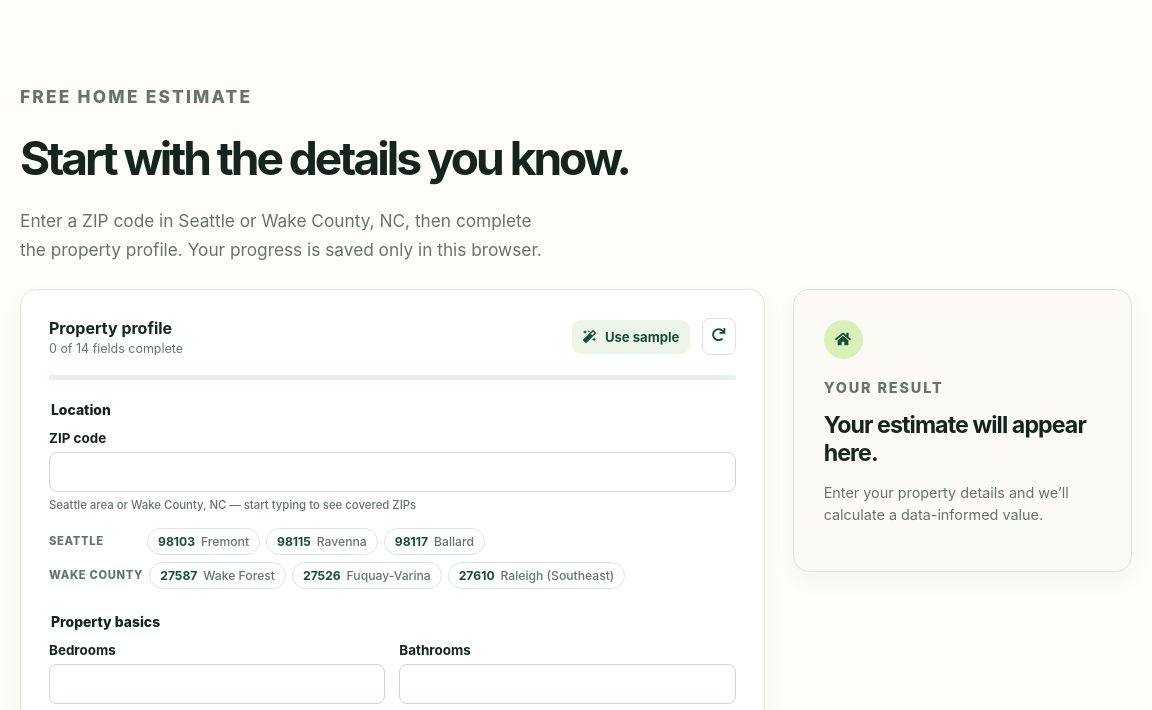
Scenario: flags covered-market ZIPs with little or no training data
In the field labelled "ZIP code": [392, 472] box [49, 452, 736, 492], type "98113"
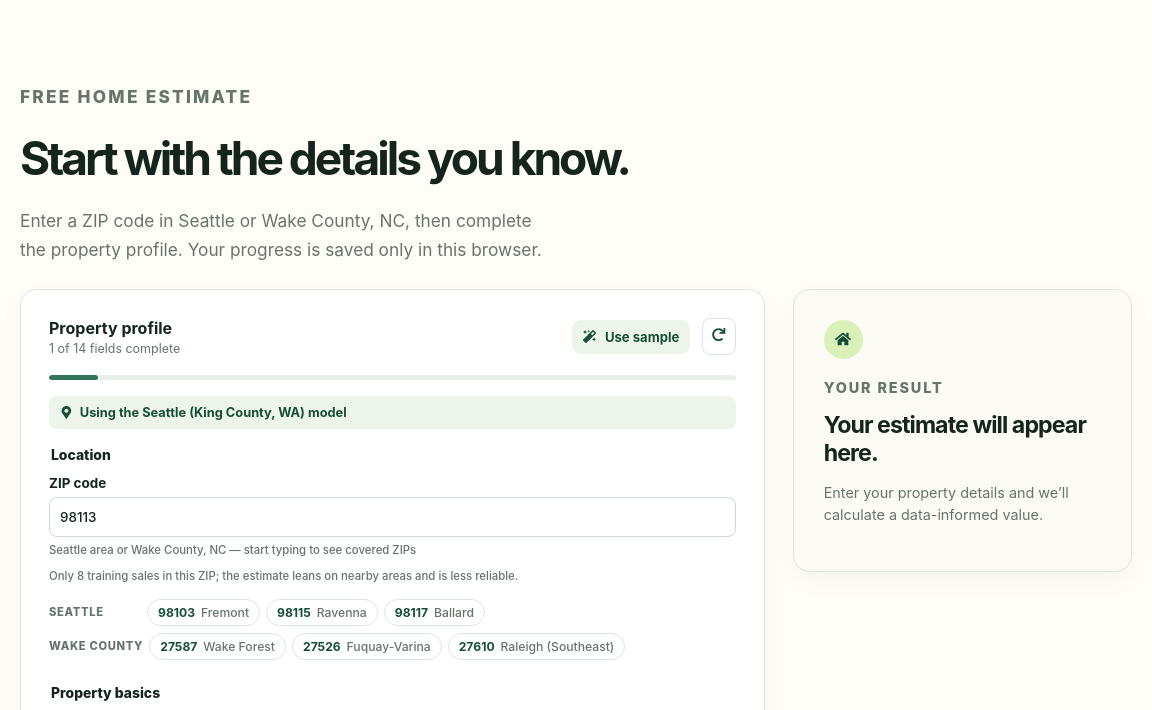
Replace the text in the field labelled "ZIP code" with "98151": [392, 517] box [49, 497, 736, 537]
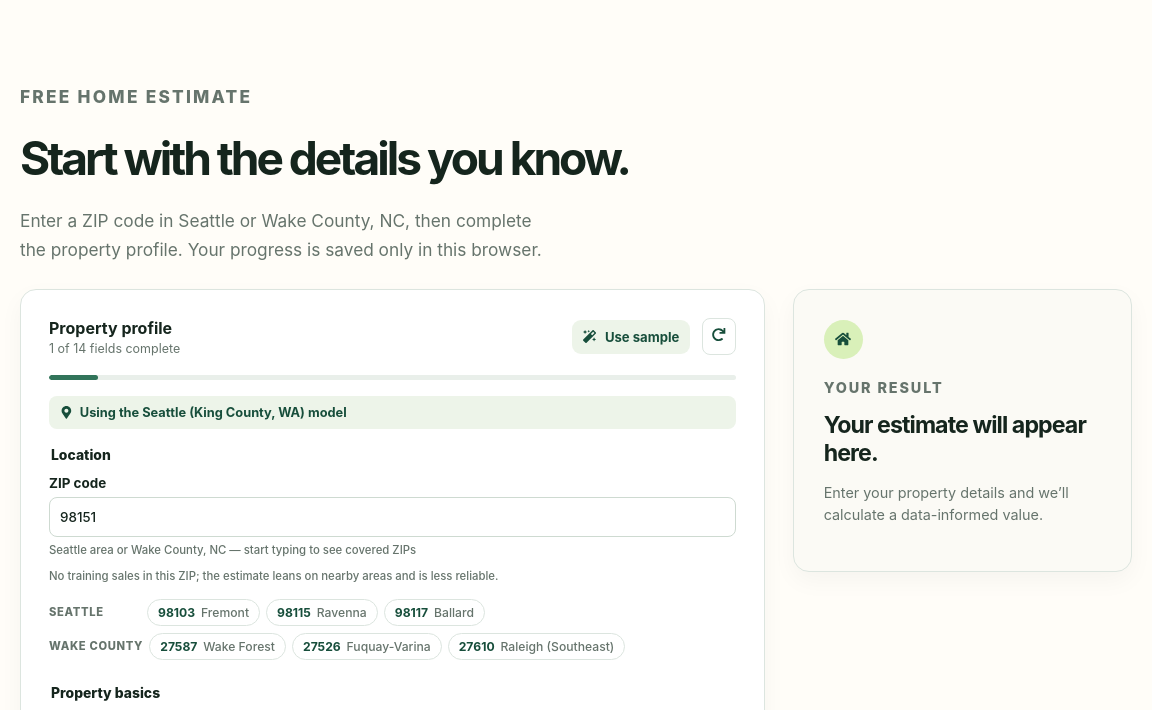
expect the text with test id "zip-coverage" shows "No training sales in this ZIP": met, box [49, 569, 196, 583]
